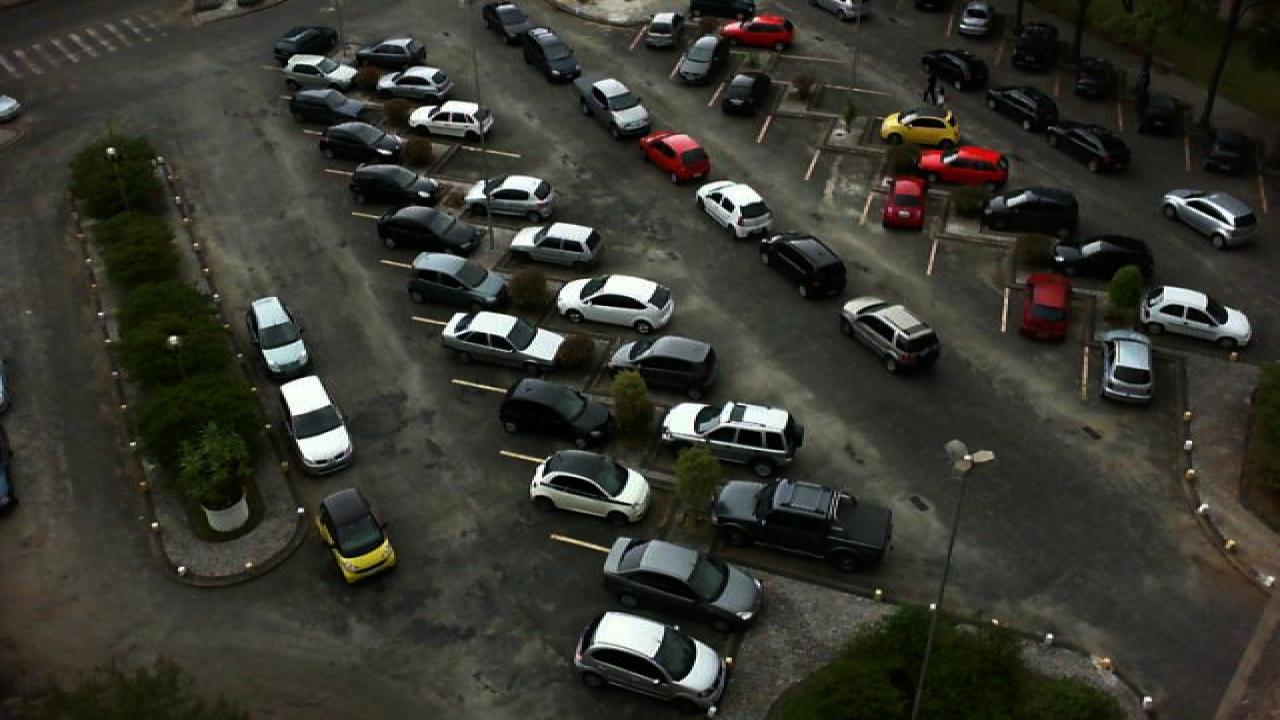Car: (708, 475, 898, 575), (570, 608, 728, 715), (598, 536, 764, 634), (658, 398, 806, 478), (526, 446, 654, 526), (1134, 282, 1258, 356), (438, 308, 570, 377), (498, 376, 620, 450), (312, 488, 400, 588), (838, 295, 944, 378), (276, 373, 354, 477), (554, 272, 678, 334), (602, 333, 722, 397), (758, 231, 850, 299), (404, 250, 510, 309), (1158, 188, 1258, 250), (1050, 233, 1156, 291), (372, 202, 484, 256), (980, 186, 1084, 242), (244, 294, 310, 376), (694, 180, 774, 242), (1098, 327, 1160, 405), (1044, 120, 1130, 176), (510, 221, 606, 271), (580, 76, 654, 138), (346, 161, 440, 208), (1018, 270, 1076, 343), (914, 144, 1012, 187), (984, 84, 1060, 134), (638, 131, 712, 182), (482, 173, 558, 222), (520, 26, 584, 84), (406, 99, 494, 141), (370, 63, 454, 105), (320, 122, 406, 163), (876, 109, 964, 147), (918, 48, 992, 92), (278, 52, 358, 92), (290, 86, 368, 127), (1198, 127, 1260, 176), (716, 13, 798, 50), (876, 176, 932, 230), (670, 33, 724, 86), (272, 24, 338, 65), (356, 37, 426, 72), (482, 1, 536, 45), (1006, 25, 1056, 72), (1068, 55, 1120, 99), (1134, 88, 1182, 135), (716, 71, 762, 116), (636, 10, 682, 51), (808, 0, 872, 24), (956, 0, 996, 38), (686, 0, 756, 21)
